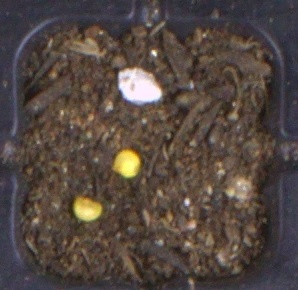chilli seed: (111, 149, 141, 179), (72, 195, 103, 222)
